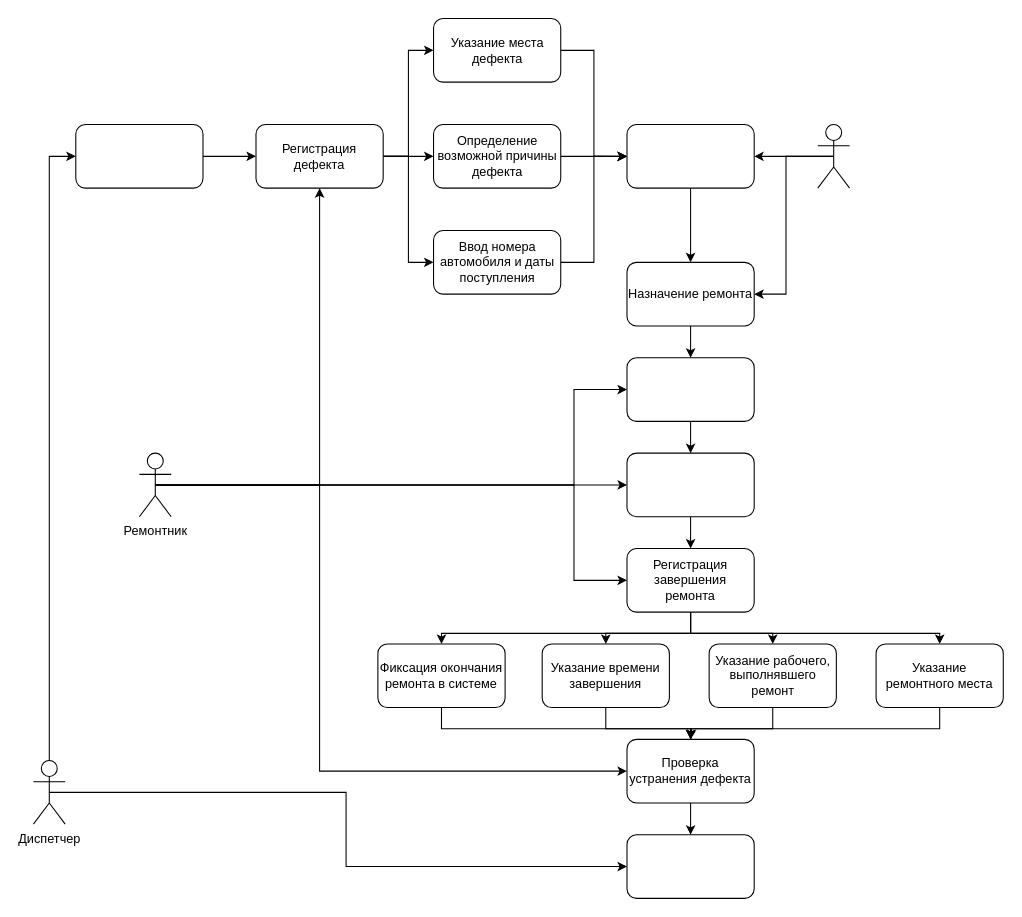
This 1022x917 diagram has some shape labels left out. The shapes that lost their labels are listed below. From the top down, each one's centre as x and y in pixels, then its label:
At point (139, 155): "Отправить автомобиль в ремонтную зону".
At point (690, 155): "Редактирование и подтверждение данных дефекта".
At point (833, 155): "Бригадир".
At point (690, 389): "Регистрация начала ремонта".
At point (690, 484): "Устранение дефекта".
At point (690, 866): "Возврат автомобиля на конвейер".
